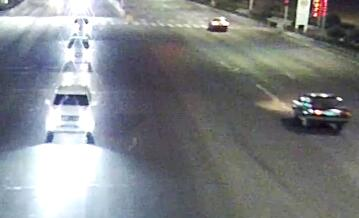car: (44, 80, 98, 148), (291, 89, 353, 137), (57, 56, 98, 90), (65, 33, 92, 61), (206, 13, 232, 33), (70, 15, 91, 33)
